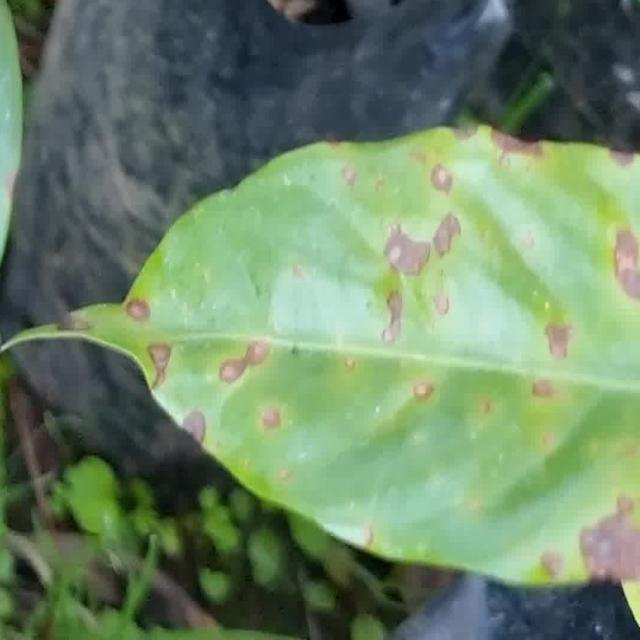leaves: (3, 126, 640, 582)
